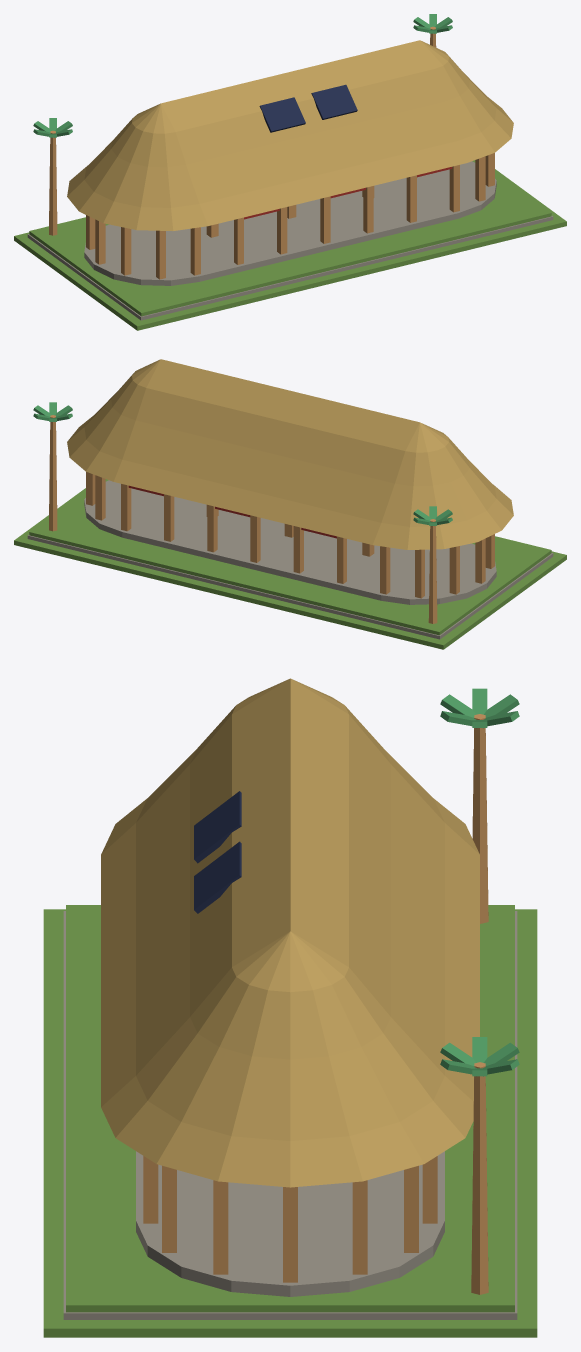
File: house-2x1-2f-third-fale-a-solar.glb
The picture shows the model from 3 angles, top to bottom: view 1: azimuth 30°, elevation 25°; view 2: azimuth 150°, elevation 25°; view 3: azimuth 270°, elevation 25°; orthographic projection. The views are drawn at different scales.
Parts seen in each view (by area): view 1: house-2x1-2f-third-fale-a-solar; view 2: house-2x1-2f-third-fale-a-solar; view 3: house-2x1-2f-third-fale-a-solar.
Boxes of the visible parts, bbox=[...] form: house-2x1-2f-third-fale-a-solar: bbox=[14, 14, 566, 330]; house-2x1-2f-third-fale-a-solar: bbox=[14, 359, 566, 649]; house-2x1-2f-third-fale-a-solar: bbox=[43, 678, 537, 1337].
Bounding box in the file's own units: 1.99 × 0.715 × 0.99.
Materials: 1 (1 with a texture image).
